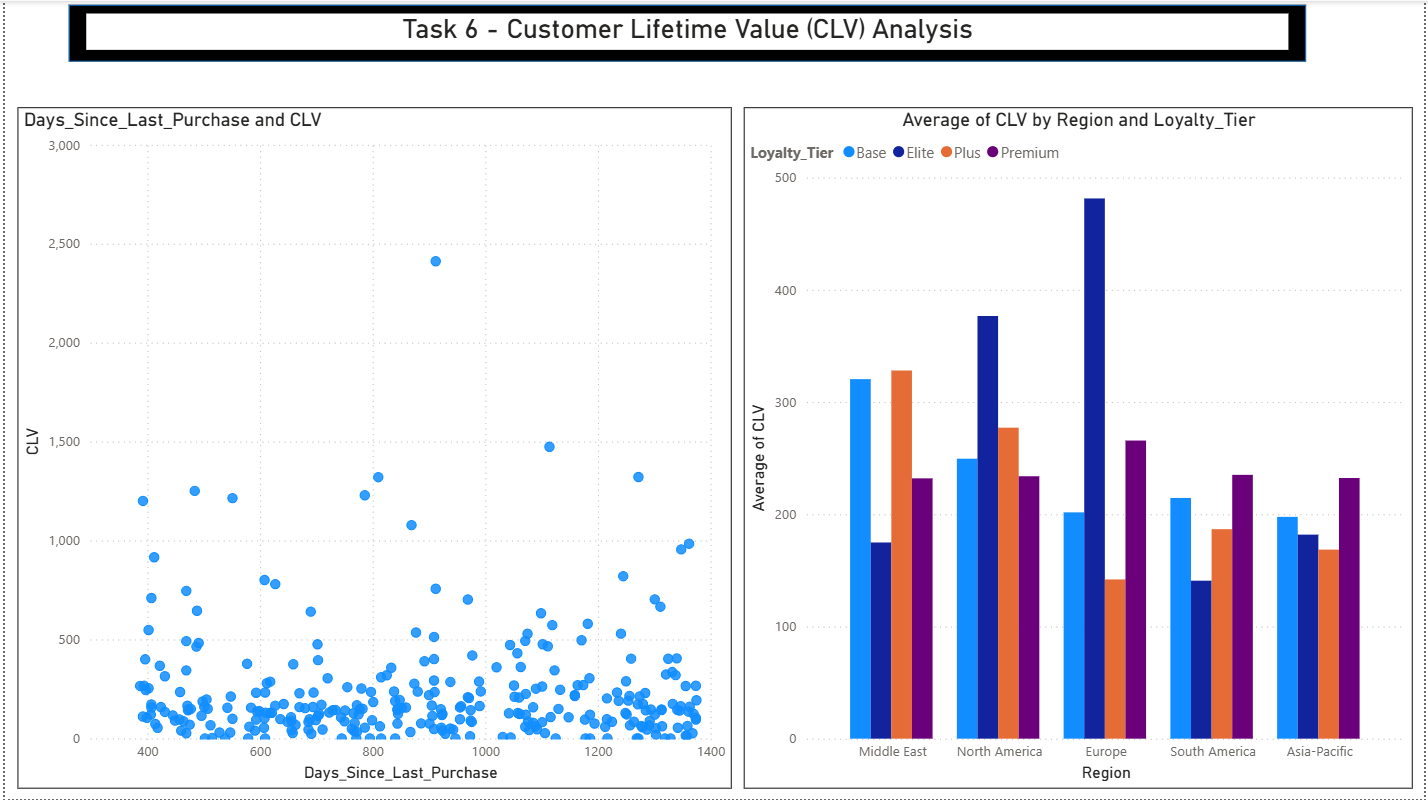

What the dashboard file says about the page in this screenshot:
{"tool":"powerbi","page":{"name":"Task 6","canvas":[1280,720],"ordinal":4},"visuals":[{"type":"scatterChart","fields":{"X":["customer churned - Churn_Labelled_Customers.Days_Since_Last_Purchase"],"Y":["Customer demographics adidas - Customer_Demographics.CLV"]},"box":[11.4,95.7,644.3,614.3],"z":0},{"type":"clusteredColumnChart","fields":{"Category":["Customer demographics adidas - Customer_Demographics.Region"],"Series":["Loyalty adidas metadata - Loyalty_Program.Loyalty_Tier"],"Y":["Avg(Customer demographics adidas - Customer_Demographics.CLV)"]},"box":[665.7,95.7,602.9,614.3],"z":1000},{"type":"shape","box":[57.1,2.9,1115.7,51.4],"z":1001},{"type":"textbox","title":"Task 6 - Customer Lifetime Value (CLV) Analysis","box":[72.9,11.4,1084.3,32.9],"z":1002}]}

Visuals, with their boxes in screenshot pixels (x1, y1, x2, y2), scaled from the page's 1280x720 canvas onto the 1428x802 screenshot:
scatterChart - customer churned - Churn_Labelled_Customers.Days_Since_Last_Purchase x Customer demographics adidas - Customer_Demographics.CLV: locate(13, 107, 732, 791)
clusteredColumnChart - Customer demographics adidas - Customer_Demographics.Region x Loyalty adidas metadata - Loyalty_Program.Loyalty_Tier: locate(743, 107, 1415, 791)
shape: locate(64, 3, 1308, 60)
"Task 6 - Customer Lifetime Value (CLV) Analysis" textbox: locate(81, 13, 1291, 49)
